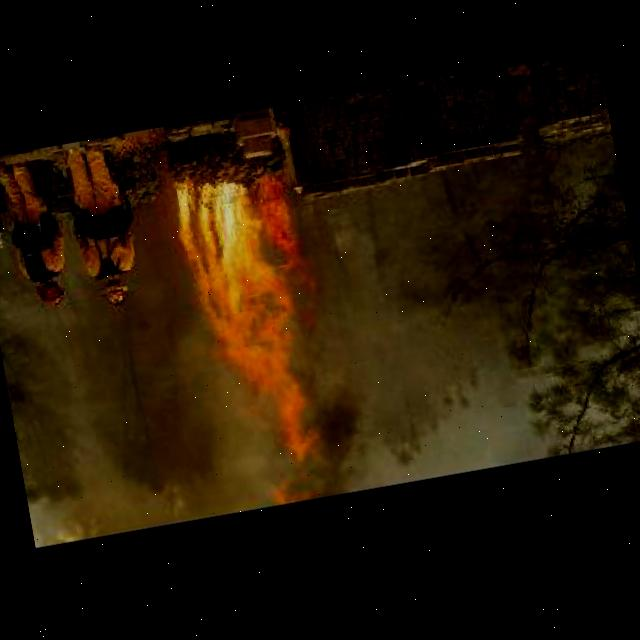fire: (1, 294, 231, 547), (173, 169, 339, 503), (291, 184, 437, 392), (313, 388, 373, 469), (286, 461, 371, 503)
